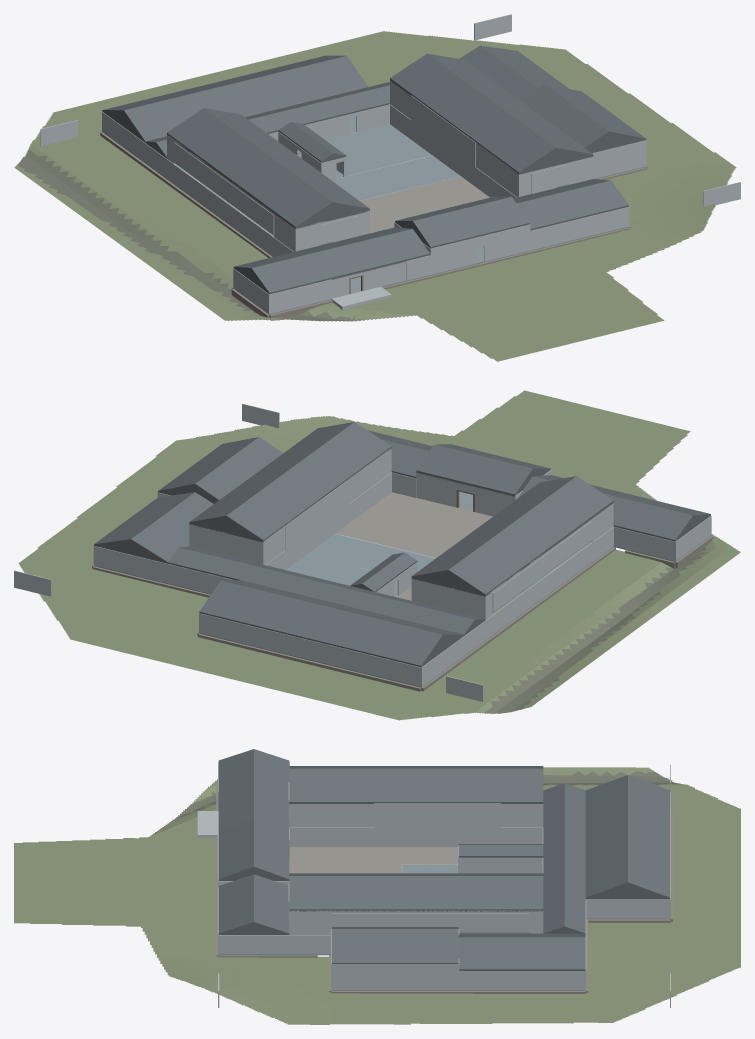
File: constructed-courts.glb
3 views of the same model, one above another, from view 1: azimuth 30°, elevation 25°; view 2: azimuth 150°, elevation 25°; view 3: azimuth 270°, elevation 25° (orthographic).
Visible parts, largest first — view 1: Saved editor macroterrain PRISON, food-and-medical roof south, east-cellhouse roof west, west-cellhouse roof west, intake-and-visitors roof south, PRISON secure exercise yard pavement region0, sally-port roof south, guard-and-staff roof south, Ceiling cap plant, Ceiling cap laundry, west-cellhouse roof east, east-cellhouse roof east (+33 smaller); view 2: Saved editor macroterrain PRISON, food-and-medical roof north, west-cellhouse roof west, east-cellhouse roof west, PRISON secure exercise yard pavement region0, north-cross roof north, sally-port roof north, west-cellhouse roof east, east-cellhouse roof east, intake-and-visitors roof north, isolation roof west, chapel roof west (+30 smaller); view 3: Saved editor macroterrain PRISON, west-cellhouse roof east, east-cellhouse roof east, food-and-medical roof south, food-and-medical roof north, chapel roof east, isolation roof east, PRISON secure exercise yard pavement region0, Wall chapel E, north-cross roof south, north-cross roof north, Wall a-rear-bypass E (+30 smaller).
Part boxes in pixels (left/top/right/bottom): Saved editor macroterrain PRISON: left=14, top=31, right=736, bottom=361; food-and-medical roof south: left=124, top=56, right=368, bottom=142; east-cellhouse roof west: left=390, top=53, right=555, bottom=173; west-cellhouse roof west: left=167, top=108, right=332, bottom=227; intake-and-visitors roof south: left=251, top=229, right=430, bottom=293; PRISON secure exercise yard pavement region0: left=360, top=176, right=489, bottom=233; sally-port roof south: left=413, top=197, right=529, bottom=247; guard-and-staff roof south: left=517, top=180, right=628, bottom=230; Ceiling cap plant: left=325, top=124, right=431, bottom=175; Ceiling cap laundry: left=332, top=155, right=460, bottom=200; west-cellhouse roof east: left=204, top=108, right=369, bottom=209; east-cellhouse roof east: left=428, top=53, right=593, bottom=155; Saved editor macroterrain PRISON: left=18, top=390, right=740, bottom=720; food-and-medical roof north: left=199, top=580, right=442, bottom=667; west-cellhouse roof west: left=448, top=476, right=613, bottom=595; east-cellhouse roof west: left=226, top=422, right=391, bottom=541; PRISON secure exercise yard pavement region0: left=336, top=492, right=492, bottom=600; north-cross roof north: left=168, top=547, right=474, bottom=634; sally-port roof north: left=416, top=444, right=532, bottom=495; west-cellhouse roof east: left=411, top=476, right=576, bottom=577; east-cellhouse roof east: left=189, top=422, right=353, bottom=523; intake-and-visitors roof north: left=517, top=476, right=693, bottom=541; isolation roof west: left=131, top=492, right=213, bottom=563; chapel roof west: left=195, top=437, right=283, bottom=500; Saved editor macroterrain PRISON: left=14, top=767, right=740, bottom=1024; west-cellhouse roof east: left=289, top=768, right=543, bottom=803; east-cellhouse roof east: left=289, top=876, right=543, bottom=910; food-and-medical roof south: left=585, top=775, right=627, bottom=898; food-and-medical roof north: left=628, top=775, right=670, bottom=898; chapel roof east: left=331, top=929, right=458, bottom=964; isolation roof east: left=458, top=937, right=585, bottom=970; PRISON secure exercise yard pavement region0: left=289, top=847, right=457, bottom=873; Wall chapel E: left=331, top=964, right=458, bottom=990; north-cross roof south: left=543, top=783, right=564, bottom=933; north-cross roof north: left=564, top=783, right=585, bottom=933; Wall a-rear-bypass E: left=430, top=803, right=500, bottom=846.
Size of the model in its own units: 87 by 12.6 by 103.
Materials: 25 (12 with a texture image).
